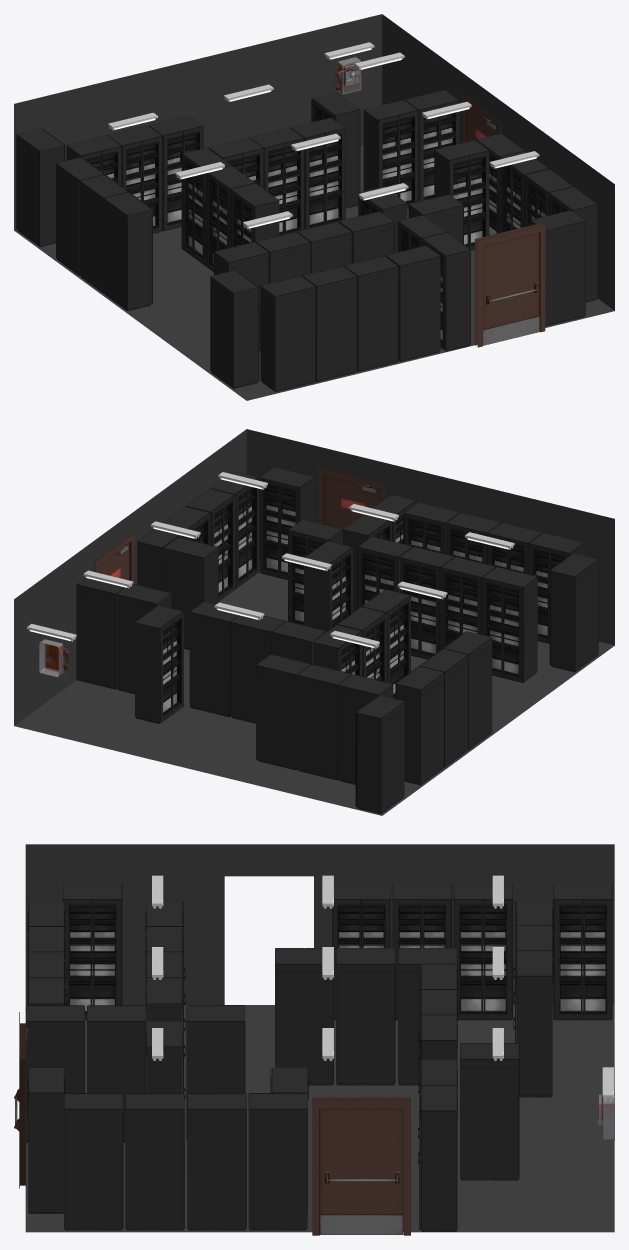
File: ALL Section 3.fbx
3 views of the same model, one above another, from view 1: azimuth 30°, elevation 25°; view 2: azimuth 150°, elevation 25°; view 3: azimuth 270°, elevation 25° (orthographic). The views are drawn at different scales.
Parts seen in each view (by area): view 1: ServerRackOnlyShelves28, pPlane1, Door (×2), fluorescecntlights3, DoorFrame, Phone; view 2: ServerRackOnlyShelves28, pPlane1, fluorescecntlights3, Door (×2), DoorFrame (×2), Phone; view 3: ServerRackOnlyShelves28, pPlane1, Door, DoorFrame (×2), fluorescecntlights3, Phone.
Part boxes in pixels (bbox=[...]): ServerRackOnlyShelves28: bbox=[16, 90, 597, 392]; pPlane1: bbox=[14, 14, 614, 400]; Door (×2): bbox=[466, 107, 539, 345]; fluorescecntlights3: bbox=[108, 42, 539, 229]; DoorFrame: bbox=[475, 222, 545, 347]; Phone: bbox=[334, 57, 361, 94]; ServerRackOnlyShelves28: bbox=[76, 467, 598, 814]; pPlane1: bbox=[14, 429, 614, 815]; fluorescecntlights3: bbox=[27, 472, 514, 648]; Door (×2): bbox=[98, 476, 381, 580]; DoorFrame (×2): bbox=[94, 467, 386, 583]; Phone: bbox=[39, 639, 68, 676]; ServerRackOnlyShelves28: bbox=[25, 884, 612, 1231]; pPlane1: bbox=[25, 844, 614, 1232]; Door: bbox=[319, 1109, 403, 1234]; DoorFrame (×2): bbox=[19, 1012, 410, 1235]; fluorescecntlights3: bbox=[152, 875, 613, 1100]; Phone: bbox=[597, 1091, 614, 1140].
Bounding box in the file's own units: 827 × 268 × 905.
